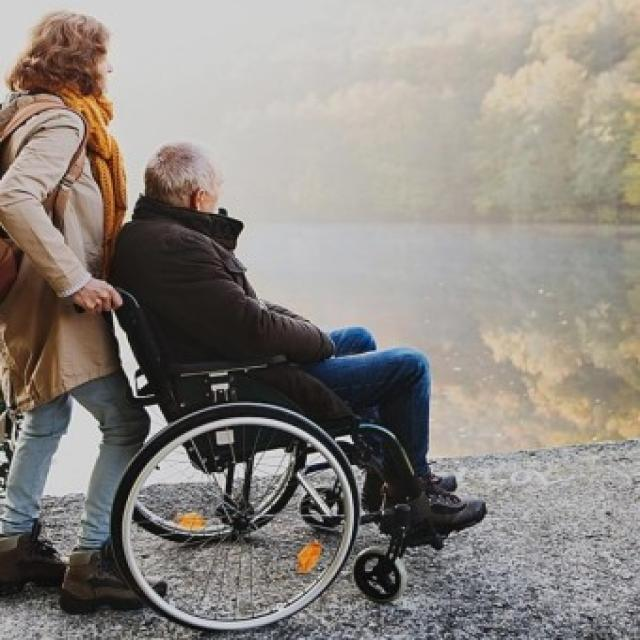wheelchair: (102, 140, 488, 633)
